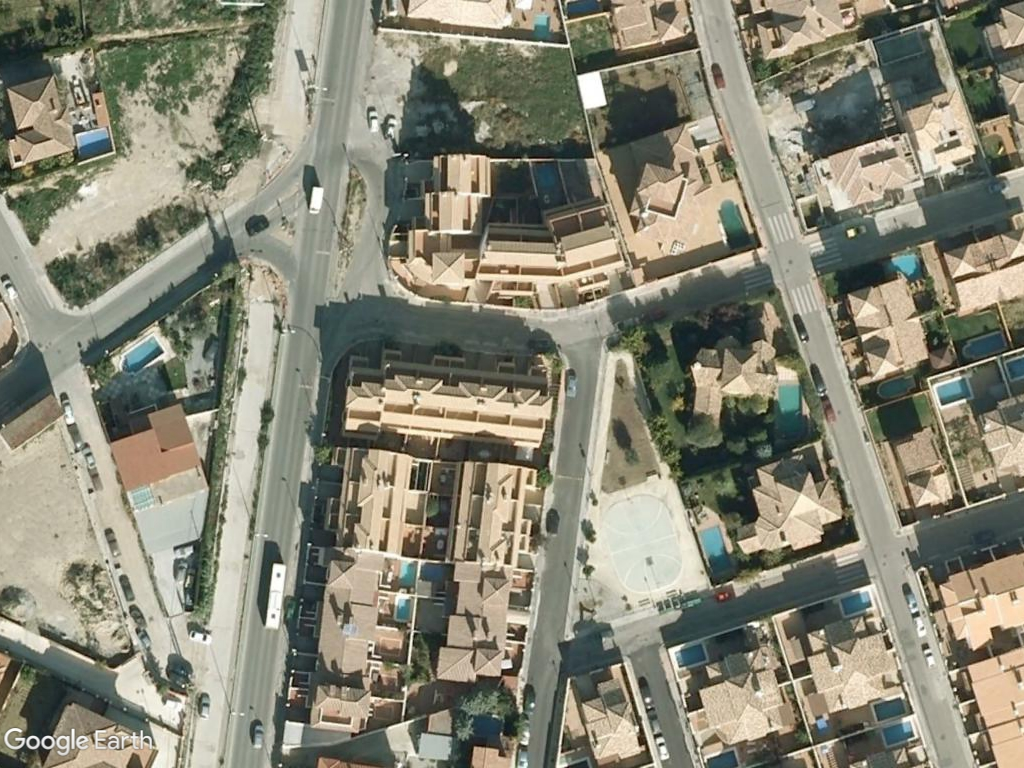bus: (261, 557, 290, 638)
car: (247, 717, 269, 755), (362, 105, 384, 140), (196, 689, 216, 727), (185, 626, 217, 649), (384, 110, 401, 144)
truck: (303, 179, 330, 224)
